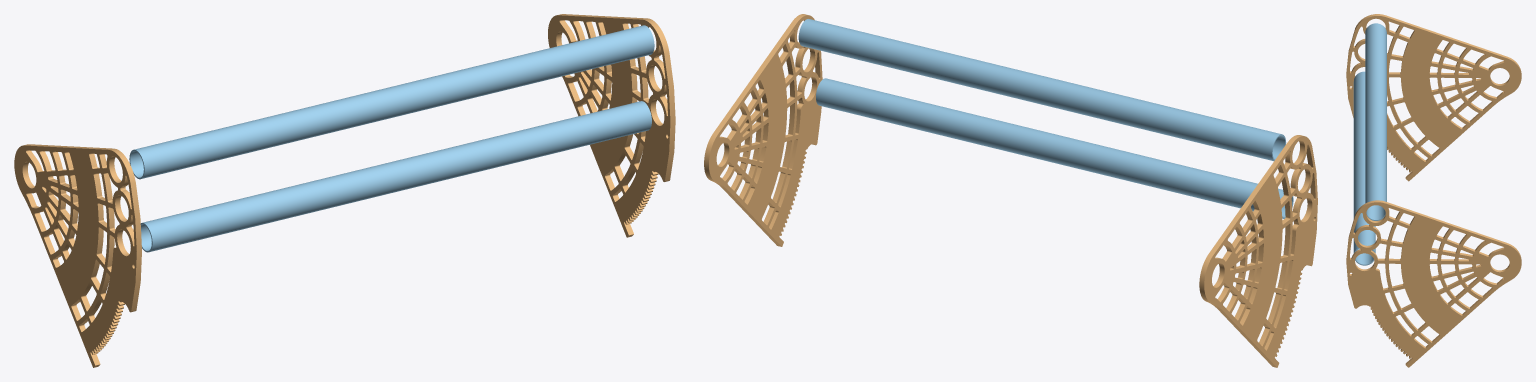
3 views of the same model, side by side, from view 1: azimuth 30°, elevation 25°; view 2: azimuth 150°, elevation 25°; view 3: azimuth 270°, elevation 25° (orthographic). The views are drawn at different scales.
Visible parts, largest first — view 1: merged_9, merged_10; view 2: merged_10, merged_9; view 3: merged_10, merged_9.
Part boxes in pixels (x1,y1,x2,y2): merged_9: (129, 25, 654, 252); merged_10: (14, 14, 675, 367); merged_10: (704, 14, 1317, 367); merged_9: (798, 19, 1293, 218); merged_10: (1346, 14, 1521, 367); merged_9: (1353, 23, 1386, 265).
Bounding box in the file's own units: 0.6509 × 0.2673 × 0.2564.
